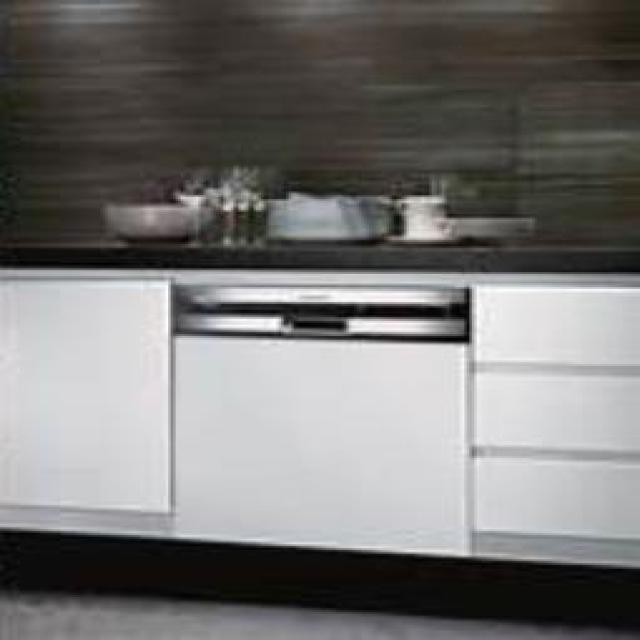dishwasher: (166, 265, 469, 559)
